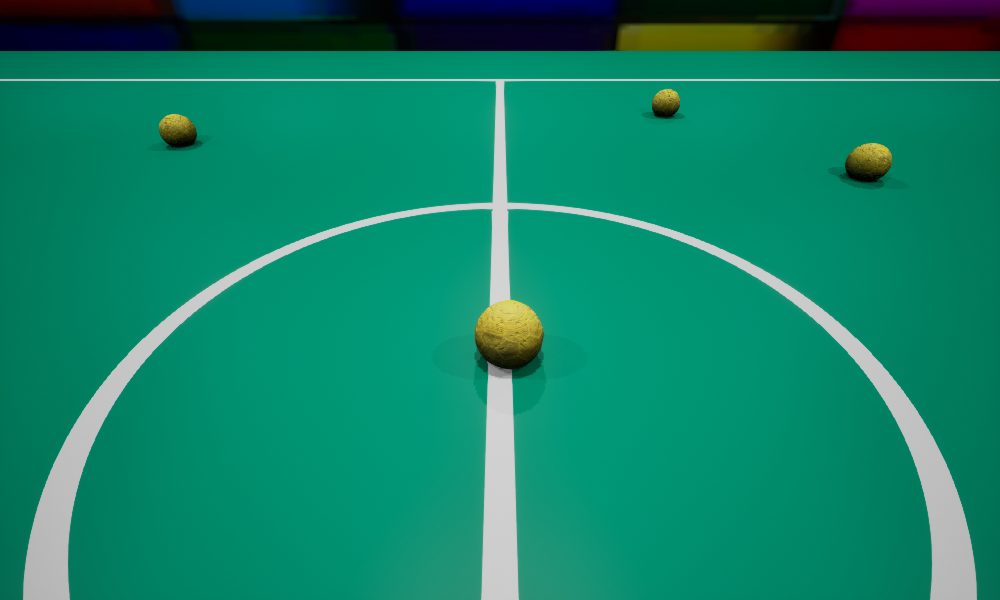b: (475, 300, 543, 368), (845, 143, 891, 181), (159, 114, 196, 146), (652, 89, 679, 116)
